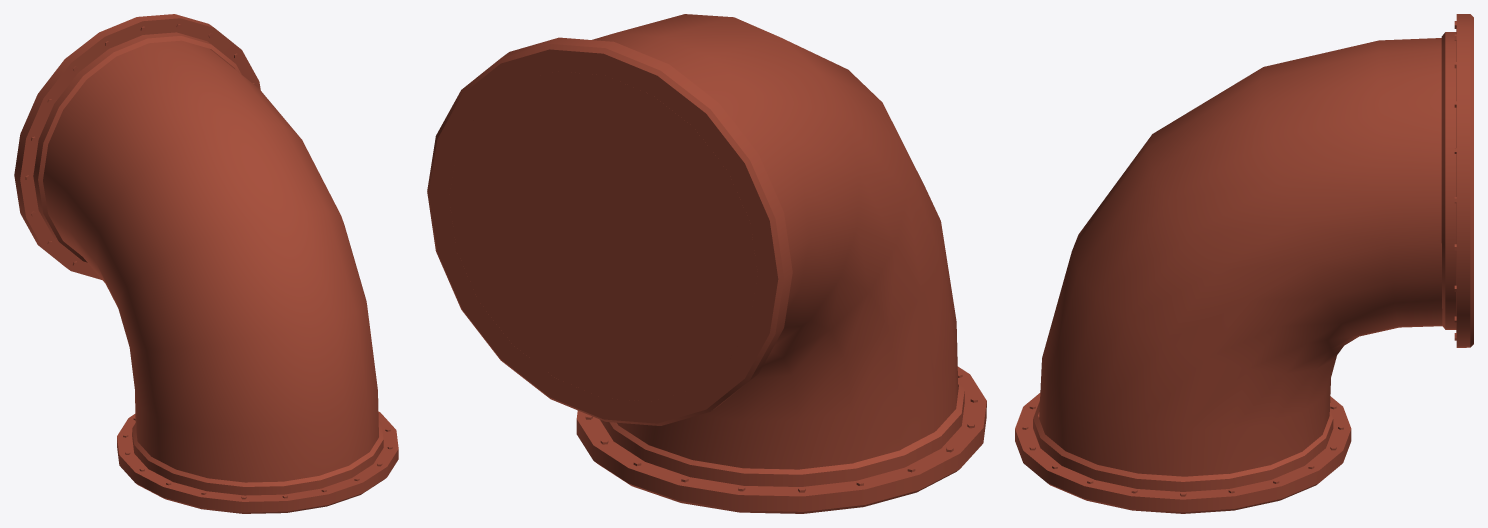
The model's file is Pipe_90.fbx.
The picture shows the model from 3 angles, left to right: view 1: azimuth 30°, elevation 25°; view 2: azimuth 150°, elevation 25°; view 3: azimuth 270°, elevation 25°; orthographic projection. The views are drawn at different scales.
Parts seen in each view (by area): view 1: Pipe_93; view 2: Pipe_93; view 3: Pipe_93.
Boxes of the visible parts, x1,y1,x2,y2 form: Pipe_93: [14, 14, 398, 513]; Pipe_93: [427, 14, 986, 513]; Pipe_93: [1015, 14, 1473, 513].
Bounding box in the file's own units: 0.5785 × 0.7892 × 0.7892.
